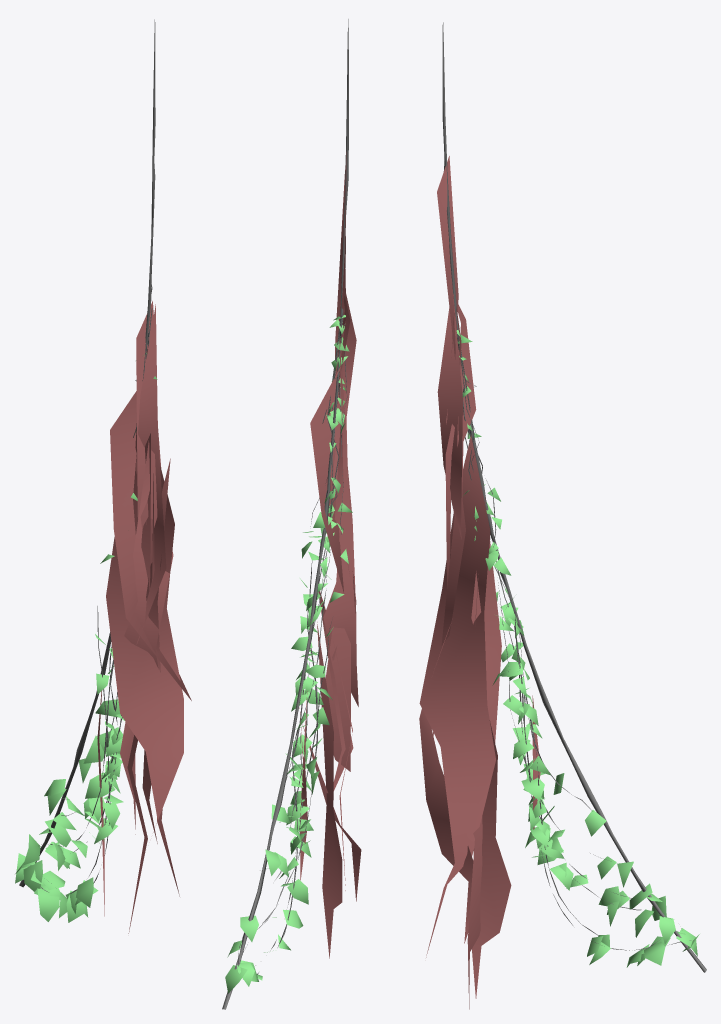
File: SM_vines_lianas_jungle_large_B.gltf
3 renders of one model, left to right at view 1: azimuth 30°, elevation 25°; view 2: azimuth 150°, elevation 25°; view 3: azimuth 270°, elevation 25°, orthographic. The views are drawn at different scales.
Parts seen in each view (by area): view 1: SM_vines_lianas_jungle_large_B; view 2: SM_vines_lianas_jungle_large_B; view 3: SM_vines_lianas_jungle_large_B.
Boxes of the visible parts, x1=… form: SM_vines_lianas_jungle_large_B: x1=15, y1=19, x2=191, y2=933; SM_vines_lianas_jungle_large_B: x1=222, y1=19, x2=361, y2=1009; SM_vines_lianas_jungle_large_B: x1=419, y1=22, x2=706, y2=1009.
Bounding box in the file's own units: 4.42 × 54.36 × 14.26.
